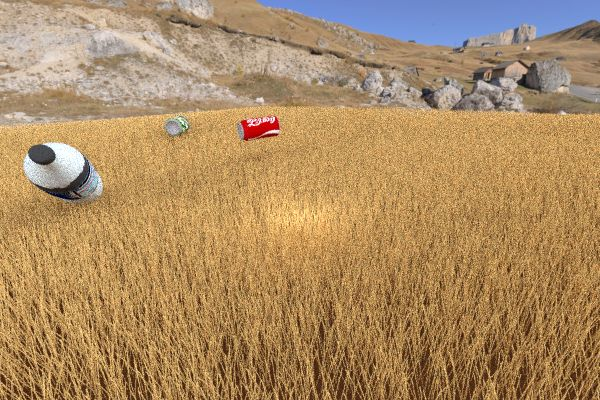bottle: (23, 142, 102, 204)
can: (237, 115, 280, 141), (164, 116, 189, 135)
